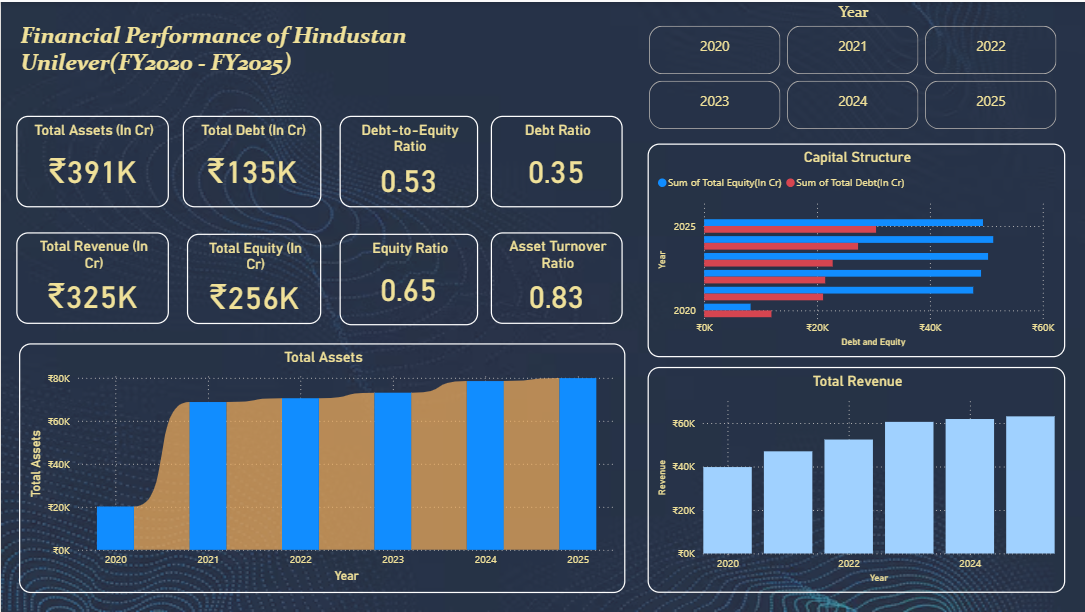

The dashboard page shown, as its layout file describes it:
{"tool":"powerbi","page":{"name":"Page 1","canvas":[1280,720],"ordinal":0},"visuals":[{"type":"ribbonChart","title":"Total Assets","fields":{"Category":["Table 1 (Financial Data).Year"],"Y":["Sum(Table 1 (Financial Data).Total Assets(In Cr))"]},"box":[21.3,402.9,715.7,294.8],"z":0},{"type":"card","title":"Total Assets (In Cr)","fields":{"Values":["Sum(Table 1 (Financial Data).Total Assets(In Cr))"]},"box":[18,134.3,180.1,108.1],"z":1000},{"type":"card","title":"Total Debt (In Cr)","fields":{"Values":["Sum(Table 1 (Financial Data).Total Debt(In Cr))"]},"box":[214.5,134.3,163.8,108.1],"z":2000},{"type":"clusteredBarChart","title":"Capital Structure","fields":{"Category":["Table 1 (Financial Data).Year"],"Y":["Sum(Table 1 (Financial Data).Total Equity(In Cr))","Sum(Table 1 (Financial Data).Total Debt(In Cr))"]},"box":[763.1,167,492.9,252.2],"z":3000},{"type":"card","title":"Total Revenue (In Cr)","fields":{"Values":["Sum(Table 1 (Financial Data).Total Revenue(In Cr))"]},"box":[18,271.8,180.1,108.1],"z":4000},{"type":"columnChart","title":"Total Revenue","fields":{"Category":["Table 1 (Financial Data).Year"],"Y":["Sum(Table 1 (Financial Data).Total Revenue(In Cr))"]},"box":[763.1,430.7,492.9,266.9],"z":5000},{"type":"textbox","box":[18,18,504.4,81.9],"z":6000},{"type":"card","title":"Total Equity (In Cr)","fields":{"Values":["Sum(Table 1 (Financial Data).Total Equity(In Cr))"]},"box":[219.4,273.5,158.9,106.4],"z":7000},{"type":"advancedSlicerVisual","fields":{"Values":["Table 1 (Financial Data).Year"]},"box":[759.9,0,492.9,155.6],"z":8000},{"type":"card","title":"Debt-to-Equity Ratio","fields":{"Values":["Table 1 (Financial Data).D/E Ratio"]},"box":[399.6,134.3,163.8,108.1],"z":9000},{"type":"card","title":"Equity Ratio","fields":{"Values":["Table 1 (Financial Data).Equity ratio Measure"]},"box":[399.6,273.5,163.8,108.1],"z":10000},{"type":"card","title":"Debt Ratio","fields":{"Values":["Table 1 (Financial Data).Debt Ratio measure"]},"box":[578.1,134.3,155.6,108.1],"z":11000},{"type":"card","title":"Asset Turnover Ratio","fields":{"Values":["Table 1 (Financial Data).Assets turnover ratio measure"]},"box":[578.1,271.8,155.6,108.1],"z":12000}]}

Visuals, with their boxes in screenshot pixels (x1, y1, x2, y2), scaled from the page's 1280x720 canvas onto the 1085x612 screenshot:
"Total Assets" ribbonChart: select_region(18, 342, 625, 593)
"Total Assets (In Cr)" card: select_region(15, 114, 168, 206)
"Total Debt (In Cr)" card: select_region(182, 114, 321, 206)
"Capital Structure" clusteredBarChart: select_region(647, 142, 1065, 356)
"Total Revenue (In Cr)" card: select_region(15, 231, 168, 323)
"Total Revenue" columnChart: select_region(647, 366, 1065, 593)
textbox: select_region(15, 15, 443, 85)
"Total Equity (In Cr)" card: select_region(186, 232, 321, 323)
advancedSlicerVisual - Table 1 (Financial Data).Year: select_region(644, 0, 1062, 132)
"Debt-to-Equity Ratio" card: select_region(339, 114, 478, 206)
"Equity Ratio" card: select_region(339, 232, 478, 324)
"Debt Ratio" card: select_region(490, 114, 622, 206)
"Asset Turnover Ratio" card: select_region(490, 231, 622, 323)
